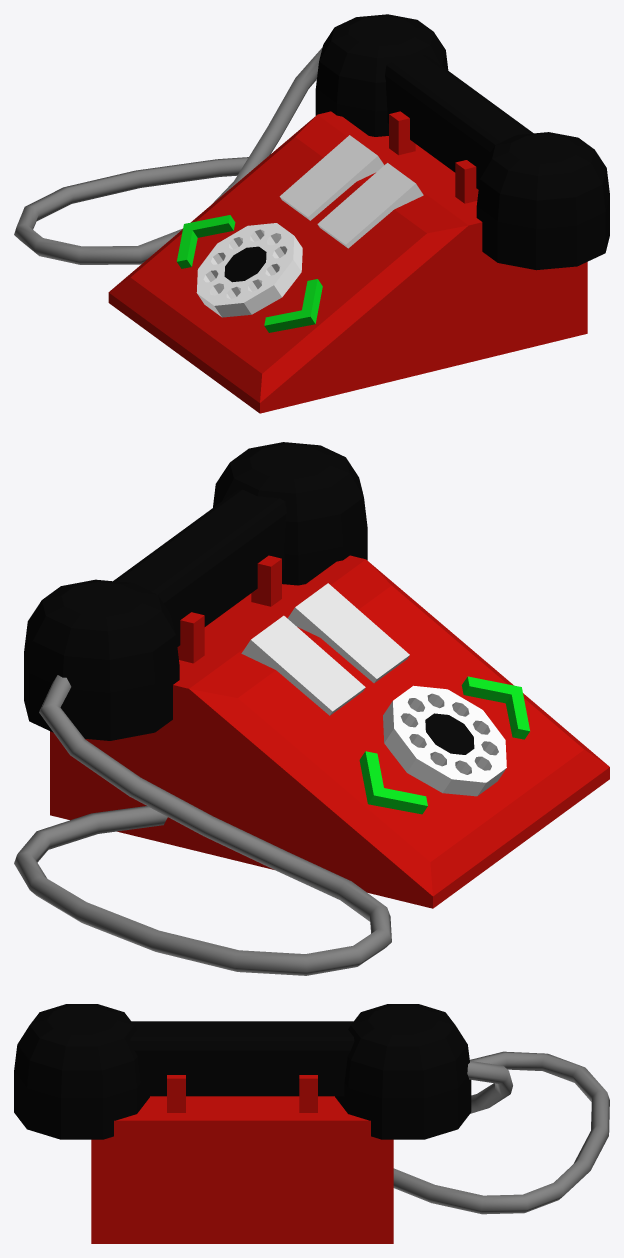
The model's file is telefon.fbx.
The picture shows the model from 3 angles, top to bottom: view 1: azimuth 30°, elevation 25°; view 2: azimuth 150°, elevation 25°; view 3: azimuth 270°, elevation 25°; orthographic projection. The views are drawn at different scales.
Visible parts, largest first — view 1: OBUDOWA, SLUCHAWKA3, KABEL, SLUCHAWKA2, SLUCHAWKA1, POKRETLO, LICZBA2P, LICZBA1P, LEWO, PRAWO; view 2: OBUDOWA, KABEL, SLUCHAWKA2, SLUCHAWKA3, SLUCHAWKA1, POKRETLO, LICZBA1P, LICZBA2P, PRAWO, LEWO; view 3: OBUDOWA, SLUCHAWKA1, SLUCHAWKA3, SLUCHAWKA2, KABEL.
Part boxes in pixels (x1,y1,x2,y2): OBUDOWA: [108, 111, 587, 413]; SLUCHAWKA3: [476, 132, 609, 270]; KABEL: [14, 47, 322, 264]; SLUCHAWKA2: [315, 14, 448, 136]; SLUCHAWKA1: [385, 55, 533, 189]; POKRETLO: [196, 223, 302, 317]; LICZBA2P: [317, 163, 423, 248]; LICZBA1P: [279, 135, 384, 220]; LEWO: [176, 215, 235, 268]; PRAWO: [264, 279, 322, 332]; OBUDOWA: [50, 555, 609, 908]; KABEL: [14, 675, 391, 975]; SLUCHAWKA2: [24, 579, 179, 740]; SLUCHAWKA3: [213, 442, 367, 585]; SLUCHAWKA1: [113, 489, 286, 646]; POKRETLO: [383, 685, 506, 796]; LICZBA1P: [241, 615, 365, 715]; LICZBA2P: [287, 583, 409, 683]; PRAWO: [461, 676, 529, 739]; LEWO: [359, 751, 427, 814]; OBUDOWA: [91, 1075, 393, 1243]; SLUCHAWKA1: [130, 1021, 354, 1096]; SLUCHAWKA3: [14, 1004, 149, 1139]; SLUCHAWKA2: [335, 1004, 471, 1139]; KABEL: [393, 1051, 609, 1214].
Bounding box in the file's own units: 216 × 117 × 315.
